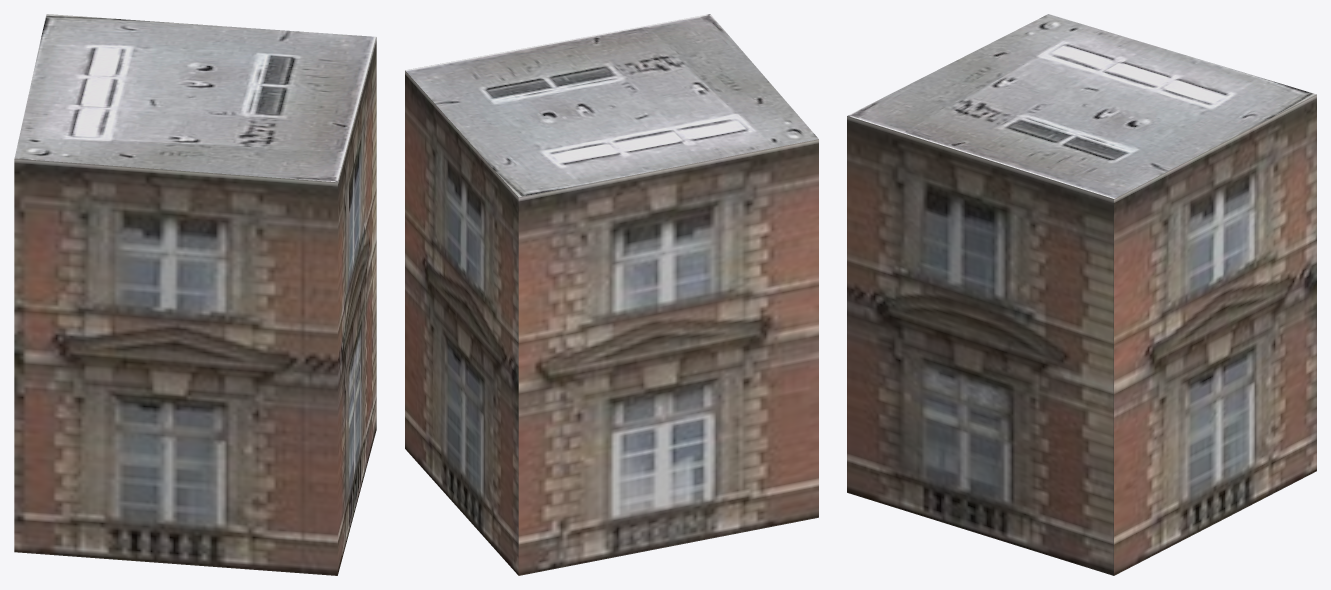
File: EduTex__12.fbx
The picture shows the model from 3 angles, left to right: view 1: azimuth 30°, elevation 25°; view 2: azimuth 150°, elevation 25°; view 3: azimuth 270°, elevation 25°; orthographic projection. The views are drawn at different scales.
Visible parts, largest first — view 1: CityEngineMaterial_15_m, CityEngineMaterial_m; view 2: CityEngineMaterial_15_m, CityEngineMaterial_m; view 3: CityEngineMaterial_15_m, CityEngineMaterial_m.
Part boxes in pixels (x1,y1,x2,y2): CityEngineMaterial_15_m: [14, 37, 376, 575]; CityEngineMaterial_m: [14, 14, 376, 182]; CityEngineMaterial_15_m: [405, 70, 818, 575]; CityEngineMaterial_m: [405, 14, 818, 197]; CityEngineMaterial_15_m: [847, 94, 1316, 575]; CityEngineMaterial_m: [847, 14, 1316, 198].
Bounding box in the file's own units: 6.32 × 6 × 6.78.
2 materials, 2 textured.
